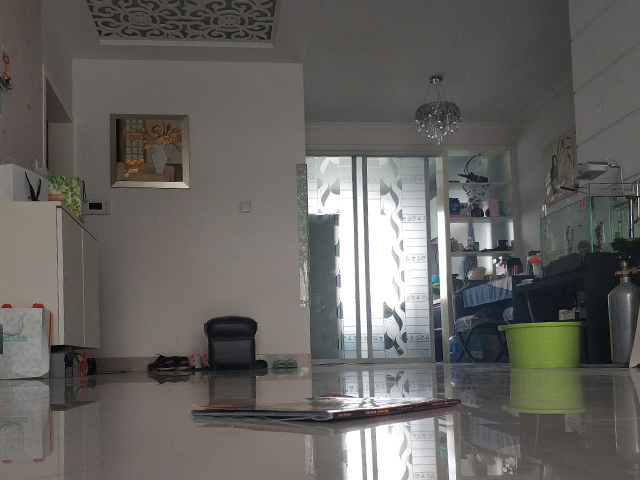book: (188, 389, 464, 426)
stool: (450, 281, 507, 363), (202, 314, 259, 372)
table: (462, 278, 513, 359)
